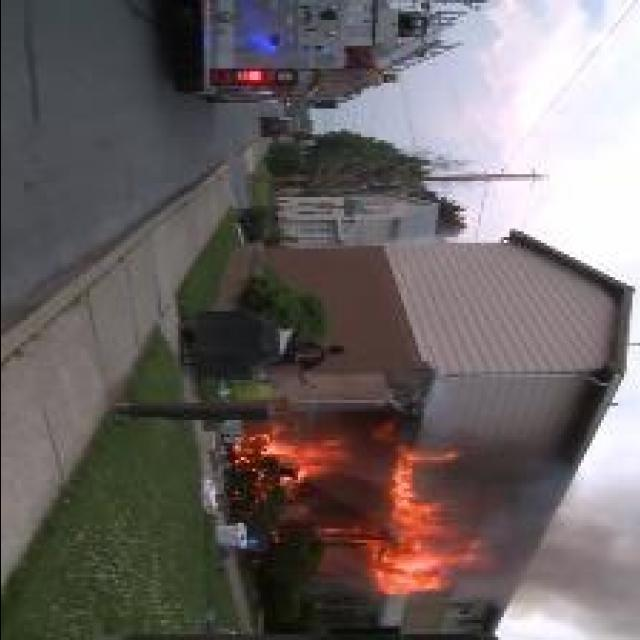Fire: (362, 449, 494, 597), (232, 424, 344, 492)
